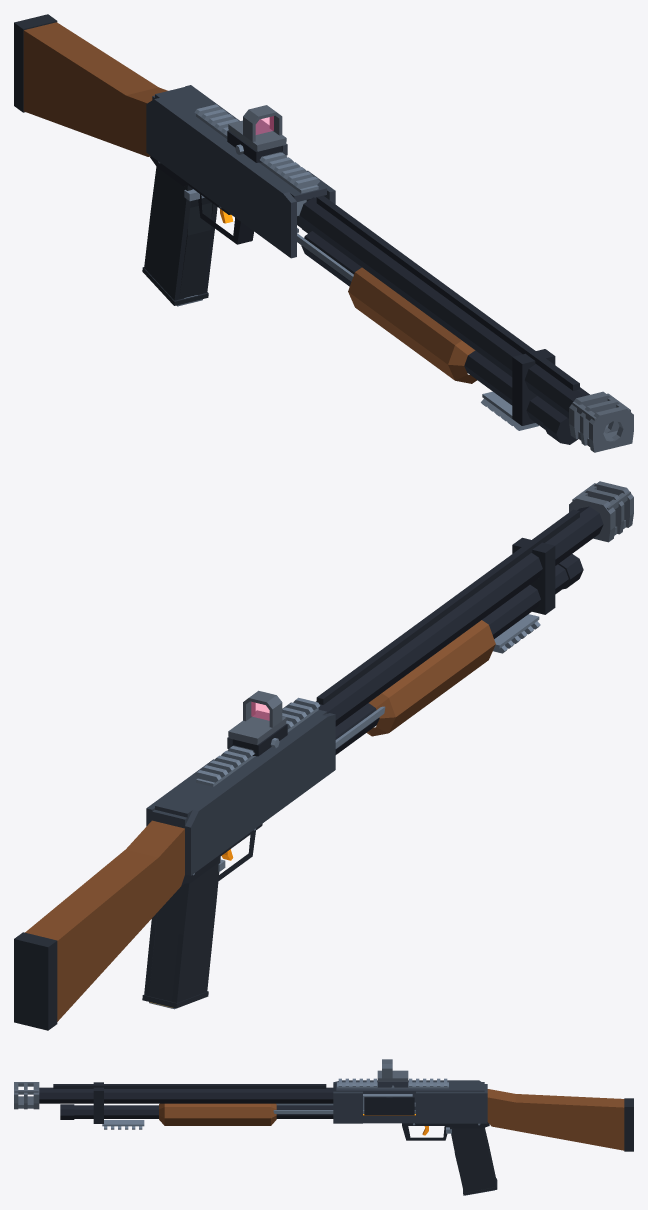
Rendered from kolmogorov_shotgun.glb.
The picture shows the model from 3 angles, top to bottom: view 1: azimuth 30°, elevation 25°; view 2: azimuth 150°, elevation 25°; view 3: azimuth 270°, elevation 25°; orthographic projection. The views are drawn at different scales.
Parts seen in each view (by area): view 1: Shotgun_HollowBarrelAndMagTube, Shotgun_StockAssembly, Shotgun_HollowReceiverShell, Ergonomic_HollowPolymerGrip, Pump_OctagonalCorncobForend, Compensator_BaffledBody, PicatinnyRail_Top_21_2mm, Universal_FCU_AdapterTang, RedDot_Chassis, RedDot_BeveledHood, PicatinnyRail_Under_21_2mm; view 2: Shotgun_StockAssembly, Shotgun_HollowBarrelAndMagTube, Shotgun_HollowReceiverShell, Ergonomic_HollowPolymerGrip, Pump_OctagonalCorncobForend, Compensator_BaffledBody, PicatinnyRail_Top_21_2mm, RedDot_Chassis, RedDot_BeveledHood, PicatinnyRail_Under_21_2mm; view 3: Shotgun_HollowBarrelAndMagTube, Shotgun_StockAssembly, Shotgun_HollowReceiverShell, Pump_OctagonalCorncobForend, Ergonomic_HollowPolymerGrip, PortDoor_StampedCover, PicatinnyRail_Top_21_2mm, Compensator_BaffledBody, Universal_FCU_AdapterTang, Pump_Action, PicatinnyRail_Under_21_2mm, RedDot_Chassis (+2 smaller).
Boxes of the visible parts, x1,y1,x2,y2 form: Shotgun_HollowBarrelAndMagTube: (299,195,589,444); Shotgun_StockAssembly: (14,14,167,156); Shotgun_HollowReceiverShell: (146,85,335,258); Ergonomic_HollowPolymerGrip: (142,166,217,305); Pump_OctagonalCorncobForend: (348,267,476,383); Compensator_BaffledBody: (569,391,633,452); PicatinnyRail_Top_21_2mm: (194,104,319,193); Universal_FCU_AdapterTang: (150,155,253,244); RedDot_Chassis: (228,119,286,151); RedDot_BeveledHood: (243,105,282,141); PicatinnyRail_Under_21_2mm: (481,391,538,430); Shotgun_StockAssembly: (14,820,184,1030); Shotgun_HollowBarrelAndMagTube: (316,506,603,754); Shotgun_HollowReceiverShell: (146,702,335,875); Ergonomic_HollowPolymerGrip: (142,857,220,1008); Pump_OctagonalCorncobForend: (366,620,495,736); Compensator_BaffledBody: (569,481,633,542); PicatinnyRail_Top_21_2mm: (194,697,320,786); RedDot_Chassis: (228,710,286,744); RedDot_BeveledHood: (243,690,282,727); PicatinnyRail_Under_21_2mm: (493,614,540,653); Shotgun_HollowBarrelAndMagTube: (39,1082,333,1123); Shotgun_StockAssembly: (487,1089,633,1151); Shotgun_HollowReceiverShell: (333,1080,487,1123); Pump_OctagonalCorncobForend: (159,1103,276,1125); Ergonomic_HollowPolymerGrip: (449,1126,497,1195); PortDoor_StampedCover: (364,1097,414,1115); PicatinnyRail_Top_21_2mm: (337,1078,448,1088); Compensator_BaffledBody: (14,1082,39,1109); Universal_FCU_AdapterTang: (402,1122,489,1140); Pump_Action: (273,1102,415,1113); PicatinnyRail_Under_21_2mm: (102,1120,144,1129); RedDot_Chassis: (377,1070,408,1081).
Bounding box in the file's own units: 0.0429 × 0.206 × 0.885.
